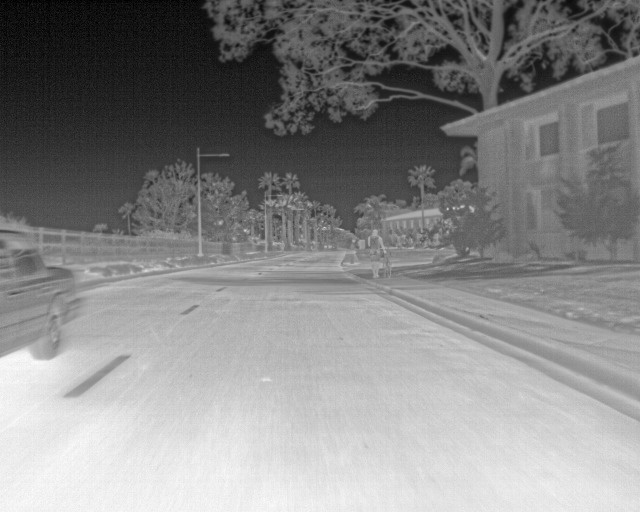vehicle: (1, 237, 79, 359)
